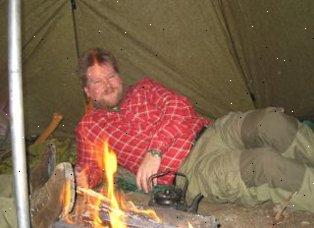fire: (59, 142, 160, 228)
